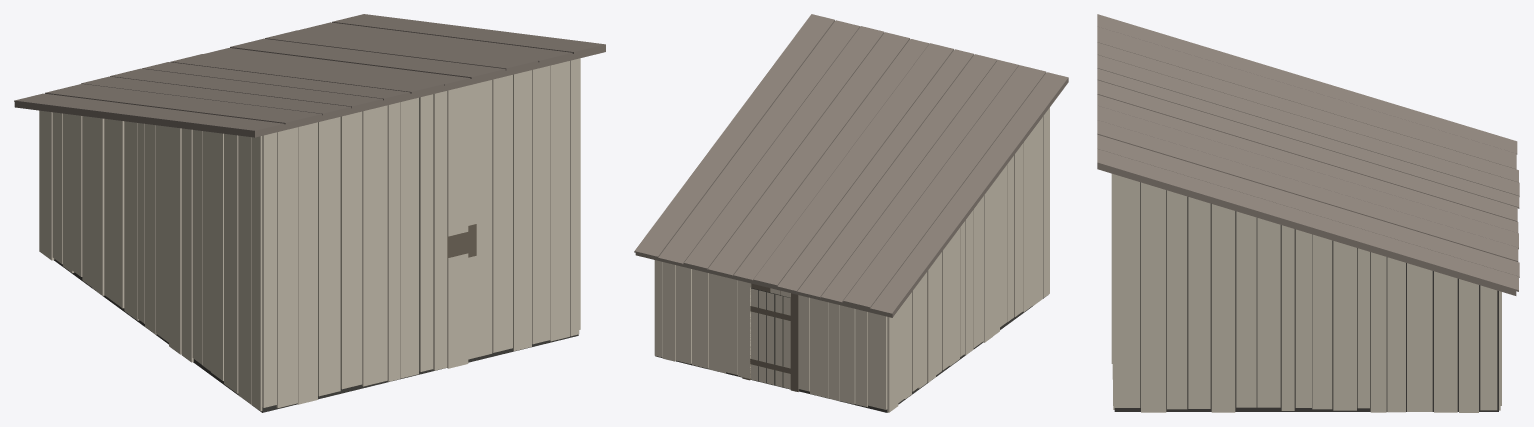
The model's file is recon_1835_blk_randolph_dearborn_d2_05__inferred_1835.glb.
3 views of the same model, side by side, from view 1: azimuth 30°, elevation 25°; view 2: azimuth 150°, elevation 25°; view 3: azimuth 270°, elevation 25° (orthographic). The views are drawn at different scales.
Parts seen in each view (by area): view 1: recon_1835_blk_randolph_dearborn_d2_05__inferred_1835; view 2: recon_1835_blk_randolph_dearborn_d2_05__inferred_1835; view 3: recon_1835_blk_randolph_dearborn_d2_05__inferred_1835.
Part boxes in pixels (bbox=[...]): recon_1835_blk_randolph_dearborn_d2_05__inferred_1835: bbox=[14, 14, 605, 412]; recon_1835_blk_randolph_dearborn_d2_05__inferred_1835: bbox=[634, 14, 1068, 412]; recon_1835_blk_randolph_dearborn_d2_05__inferred_1835: bbox=[1097, 14, 1519, 412].
Bounding box in the file's own units: 5.45 × 4.37 × 6.51.
